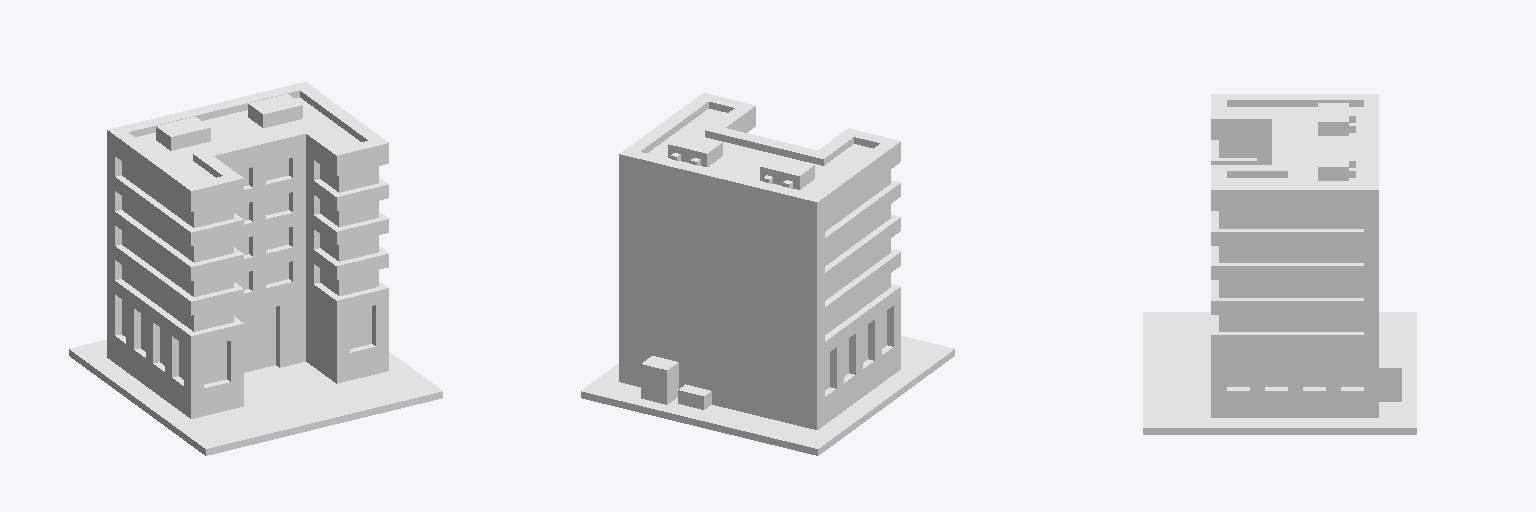
3 views of the same model, side by side, from view 1: azimuth 30°, elevation 25°; view 2: azimuth 150°, elevation 25°; view 3: azimuth 270°, elevation 25° (orthographic).
Parts seen in each view (by area): view 1: 5; view 2: 5; view 3: 5.
Part boxes in pixels (bbox=[...]): 5: bbox=[69, 82, 442, 455]; 5: bbox=[581, 93, 954, 455]; 5: bbox=[1143, 94, 1416, 434].
Bounding box in the file's own units: 36 × 35 × 36.
1 materials, 1 textured.